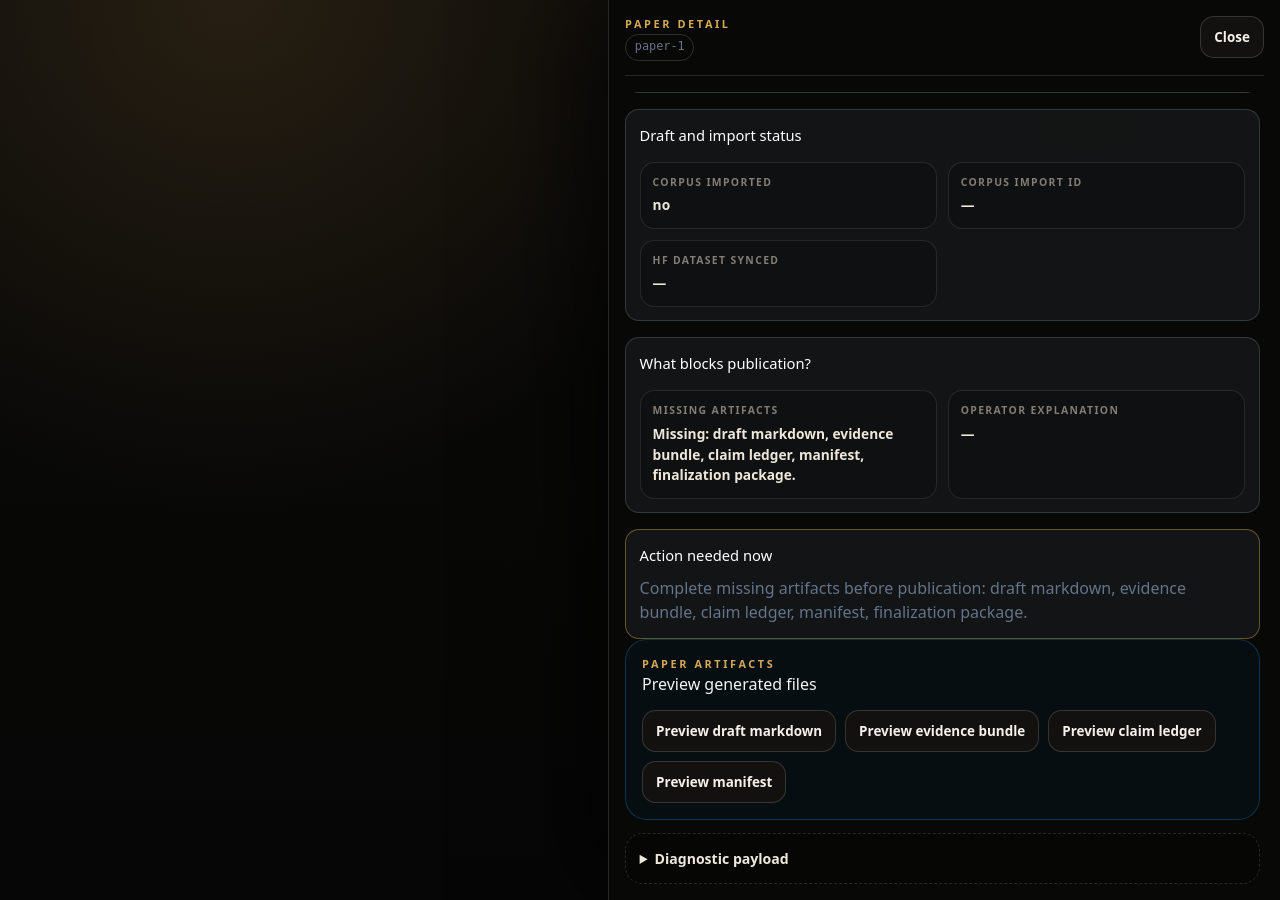
Test: loads paper artifacts directly from V2 paper detail
(page scrolled)
Expected: the text "Paper artifacts" is shown, x1=642 y1=656 x2=775 y2=671
Click the button "Preview draft markdown": (739, 731) x1=642 y1=710 x2=836 y2=752
(page scrolled)
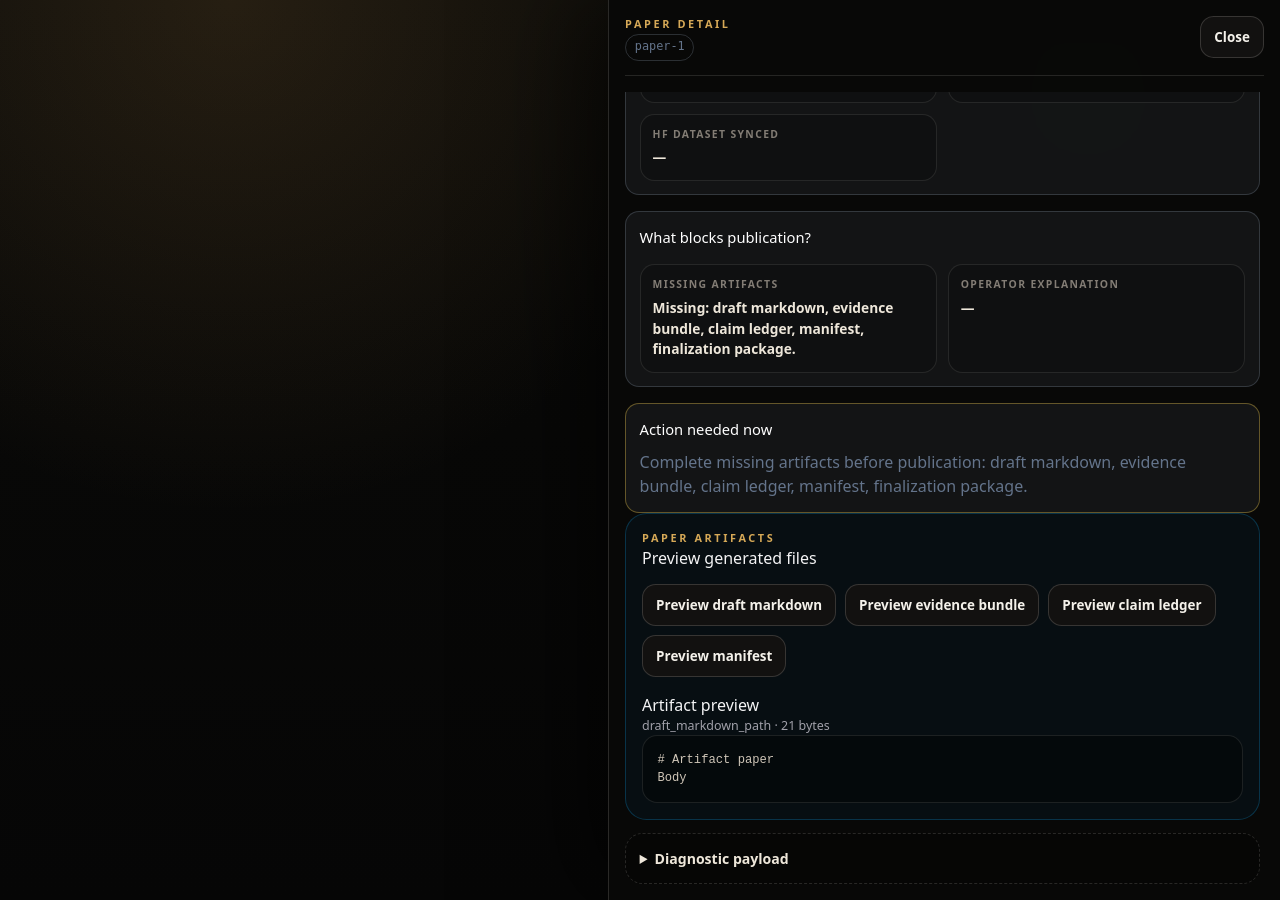
Now the heading "Artifact preview" is shown, box x1=642 y1=694 x2=759 y2=716
